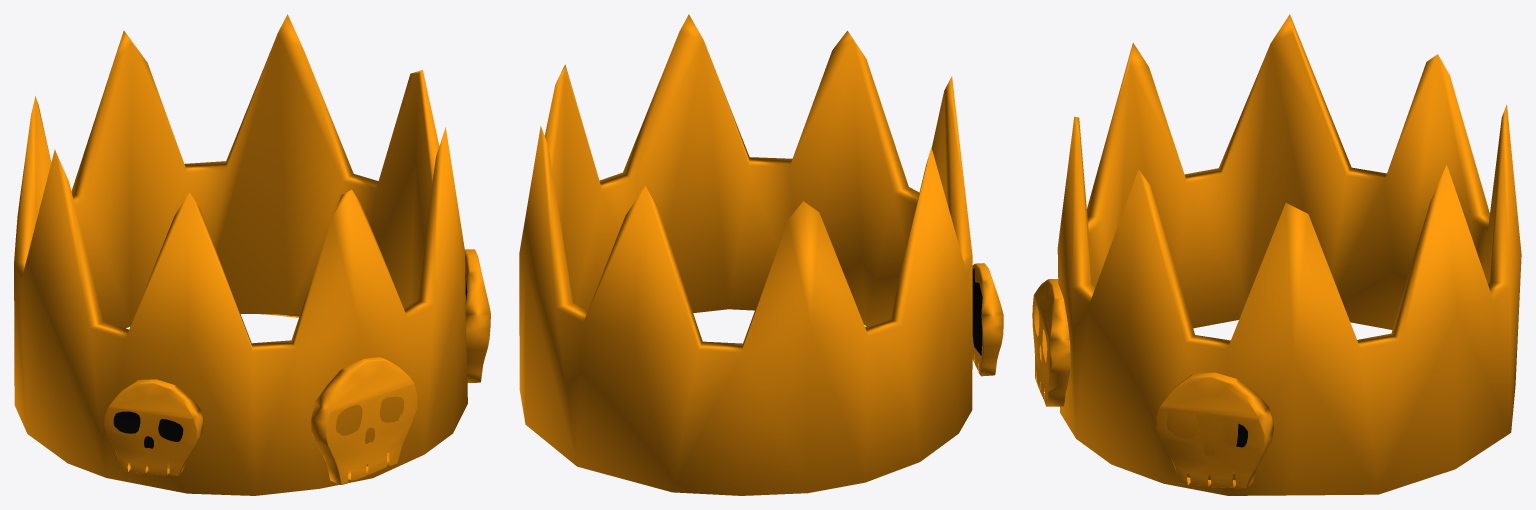
Rendered from crown.fbx.
3 views of the same model, side by side, from view 1: azimuth 30°, elevation 25°; view 2: azimuth 150°, elevation 25°; view 3: azimuth 270°, elevation 25° (orthographic).
Visible parts, largest first — view 1: Circle, Cube.004, Cube.006, Cube.007; view 2: Circle, Cube.006; view 3: Circle, Cube.007, Cube.004.
Boxes of the visible parts, x1,y1,x2,y2 form: Circle: [14, 14, 467, 495]; Cube.004: [311, 357, 417, 484]; Cube.006: [103, 379, 203, 476]; Cube.007: [465, 249, 490, 382]; Circle: [519, 14, 972, 495]; Cube.006: [972, 263, 1003, 376]; Circle: [1057, 14, 1521, 495]; Cube.007: [1156, 372, 1273, 489]; Cube.004: [1032, 279, 1070, 406].
Bounding box in the file's own units: 100 × 68.3 × 99.86.
